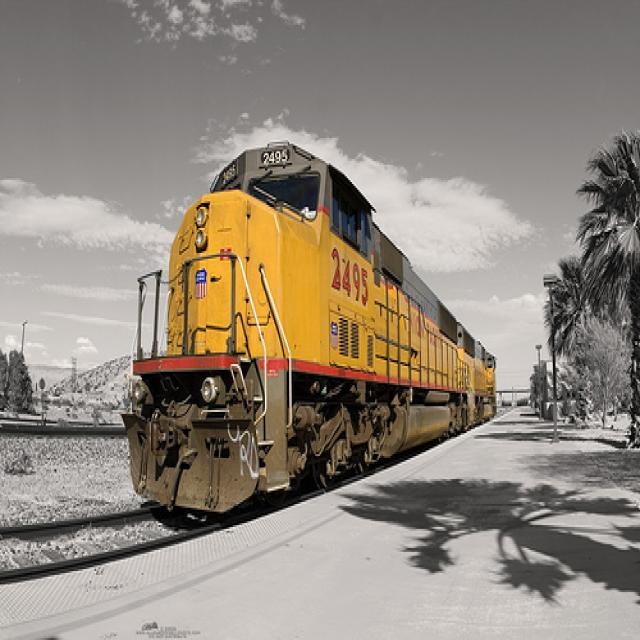locomotive: (114, 126, 476, 541)
